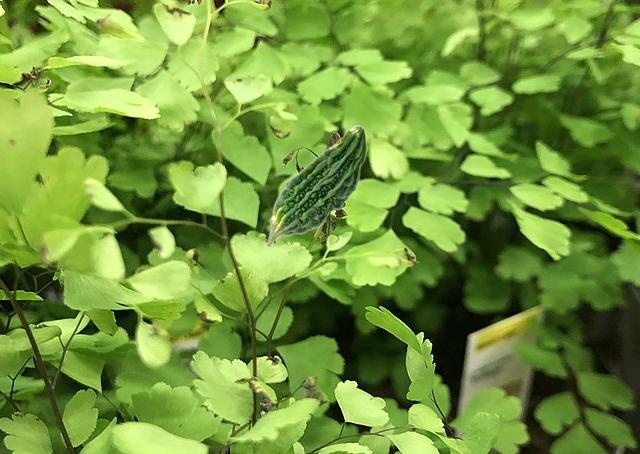ampalaya: (265, 124, 369, 248)
